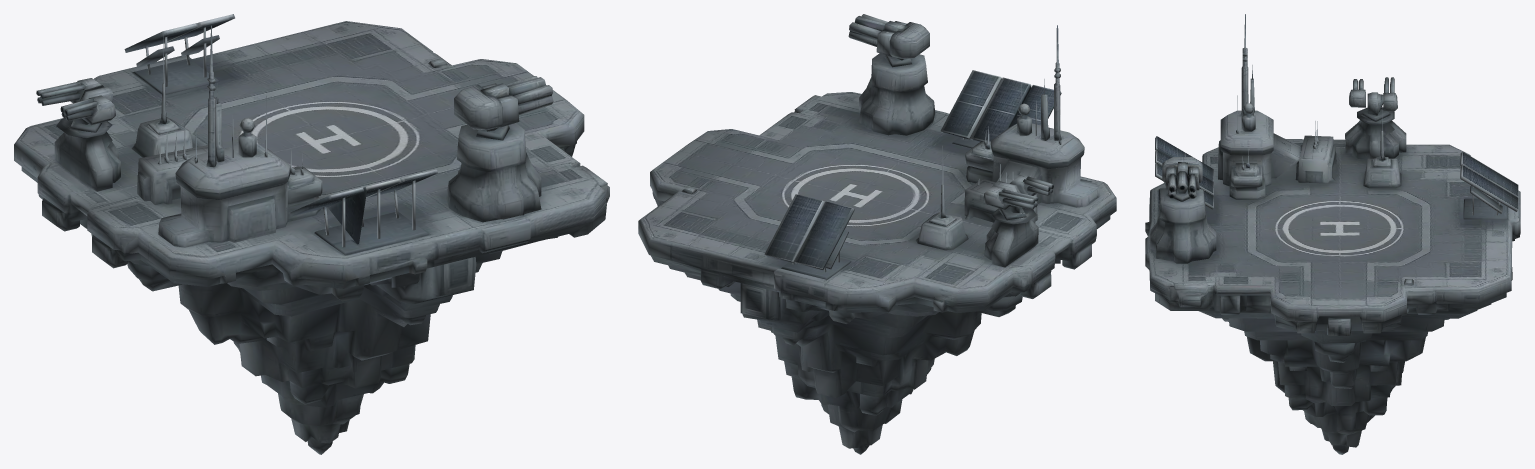
The model's file is sky-base-platform-v1.glb.
3 views of the same model, side by side, from view 1: azimuth 30°, elevation 25°; view 2: azimuth 150°, elevation 25°; view 3: azimuth 270°, elevation 25° (orthographic). The views are drawn at different scales.
Visible parts, largest first — view 1: sky-base-platform-v1; view 2: sky-base-platform-v1; view 3: sky-base-platform-v1.
Boxes of the visible parts, x1,y1,x2,y2 form: sky-base-platform-v1: [14, 14, 609, 454]; sky-base-platform-v1: [638, 14, 1116, 454]; sky-base-platform-v1: [1145, 14, 1520, 454].
Bounding box in the file's own units: 442 × 460 × 413.
1 material, 1 textured.
